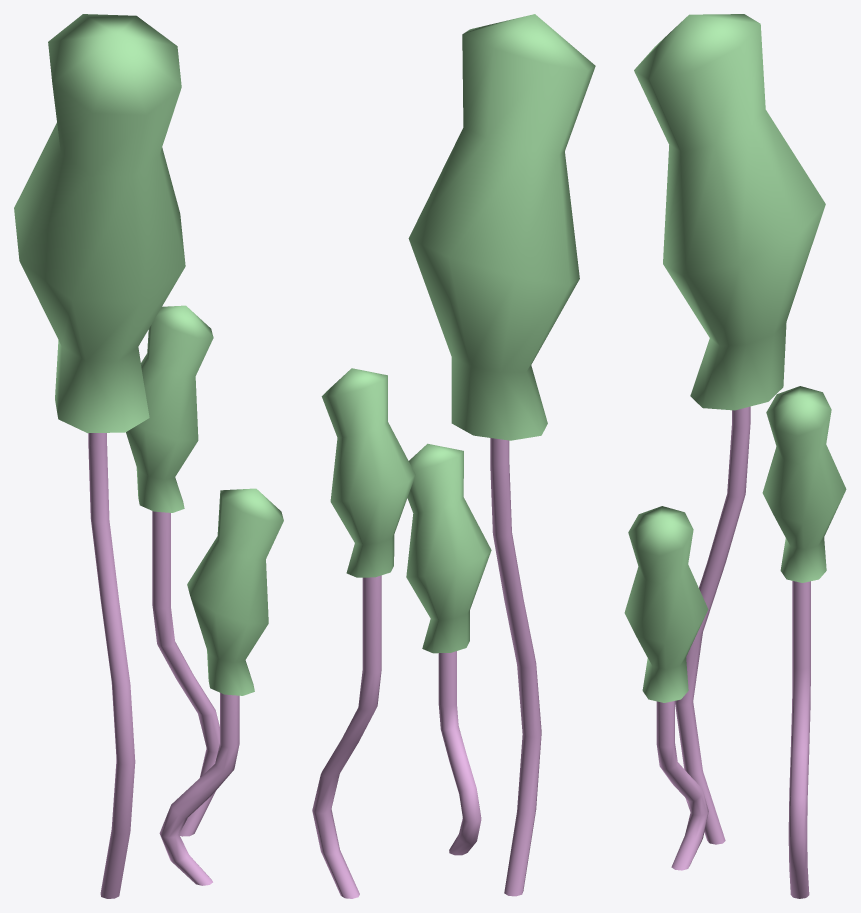
The model's file is Plant3.fbx.
3 renders of one model, left to right at view 1: azimuth 30°, elevation 25°; view 2: azimuth 150°, elevation 25°; view 3: azimuth 270°, elevation 25°, orthographic. The views are drawn at different scales.
Parts seen in each view (by area): view 1: plant3; view 2: plant3; view 3: plant3.
Part boxes in pixels (x1,y1,x2,y2): plant3: (14,14,283,898); plant3: (312,14,595,898); plant3: (624,14,846,898).
Bounding box in the file's own units: 0.7958 × 2.87 × 0.7013.
